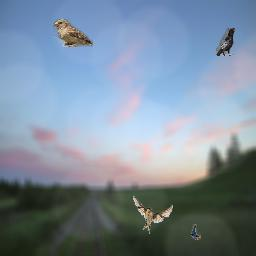Crow: (216, 28, 235, 56)
Sparrow: (53, 19, 93, 47)
Swallow: (133, 195, 173, 234), (191, 224, 201, 240)
